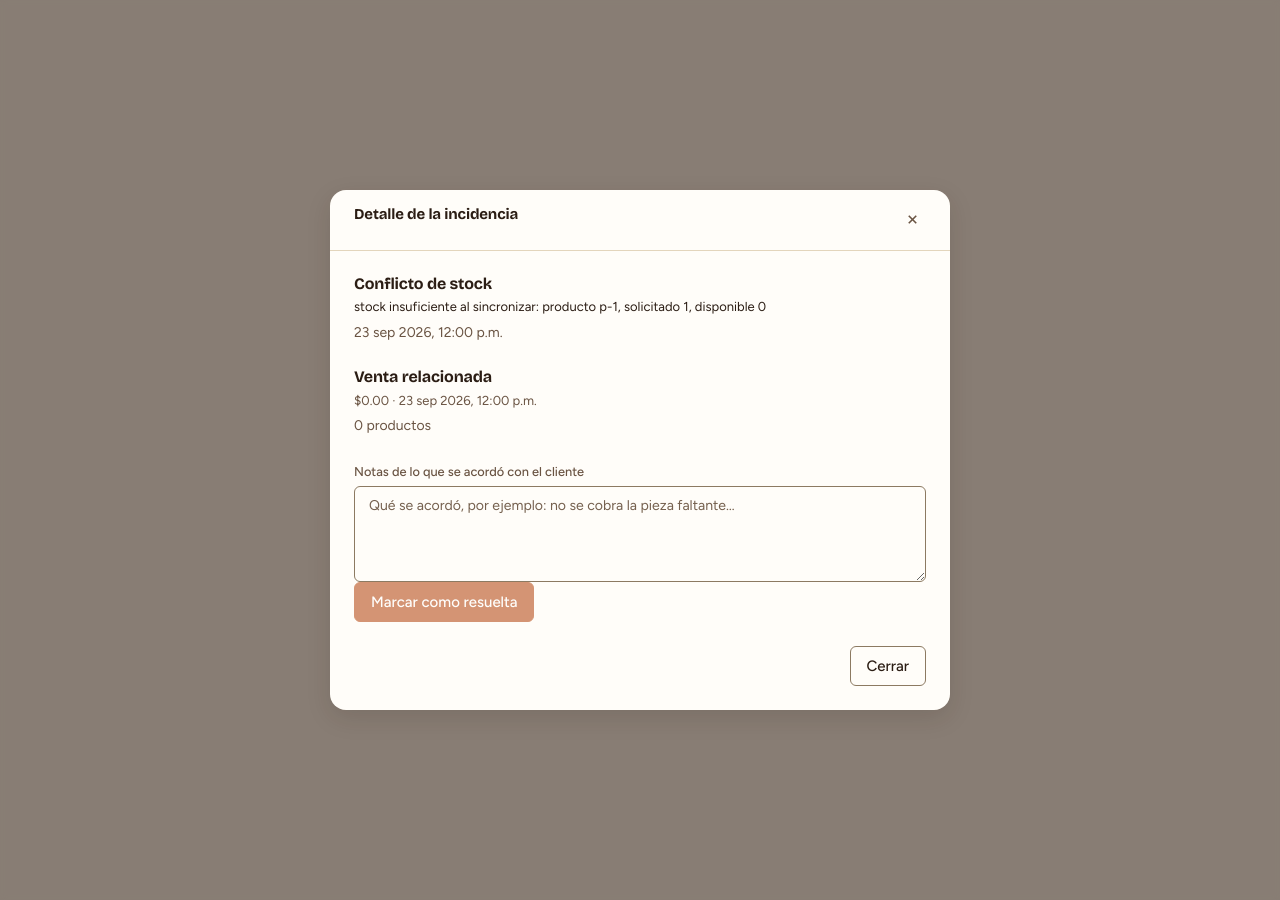
Test: IncidenciaDetailModal — pendiente: formulario de resolver › al resolver bien pasa a modo lectura y avisa al padre (evento resolved)
Type "Ya se resolvió." into the text box labelled "Notas de lo que se acordó con el cliente". click: (640, 534)
box: [354,486,926,582]
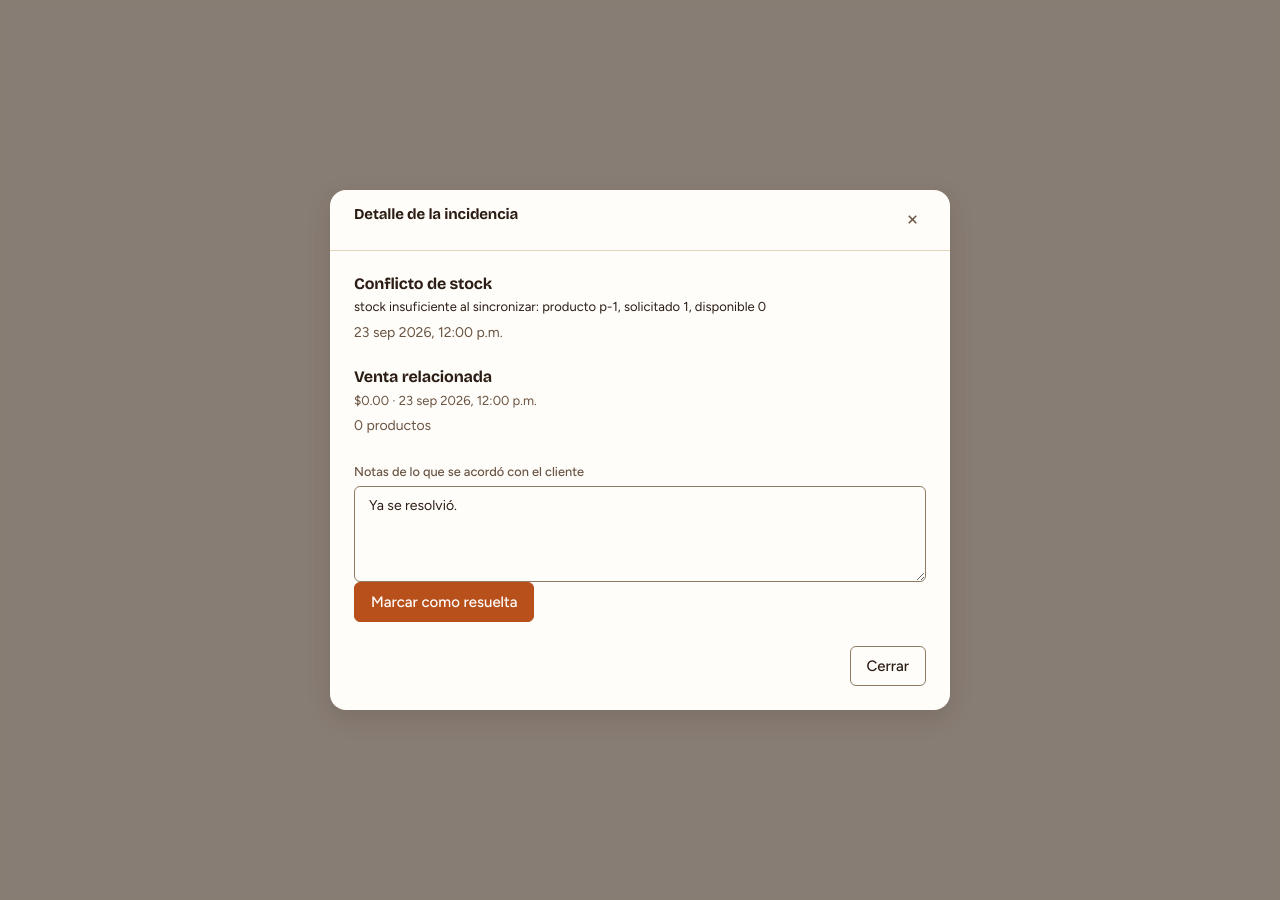
Click the button with class "incidencia-detail-modal__resolve". click: (444, 602)
box: [354,582,534,622]
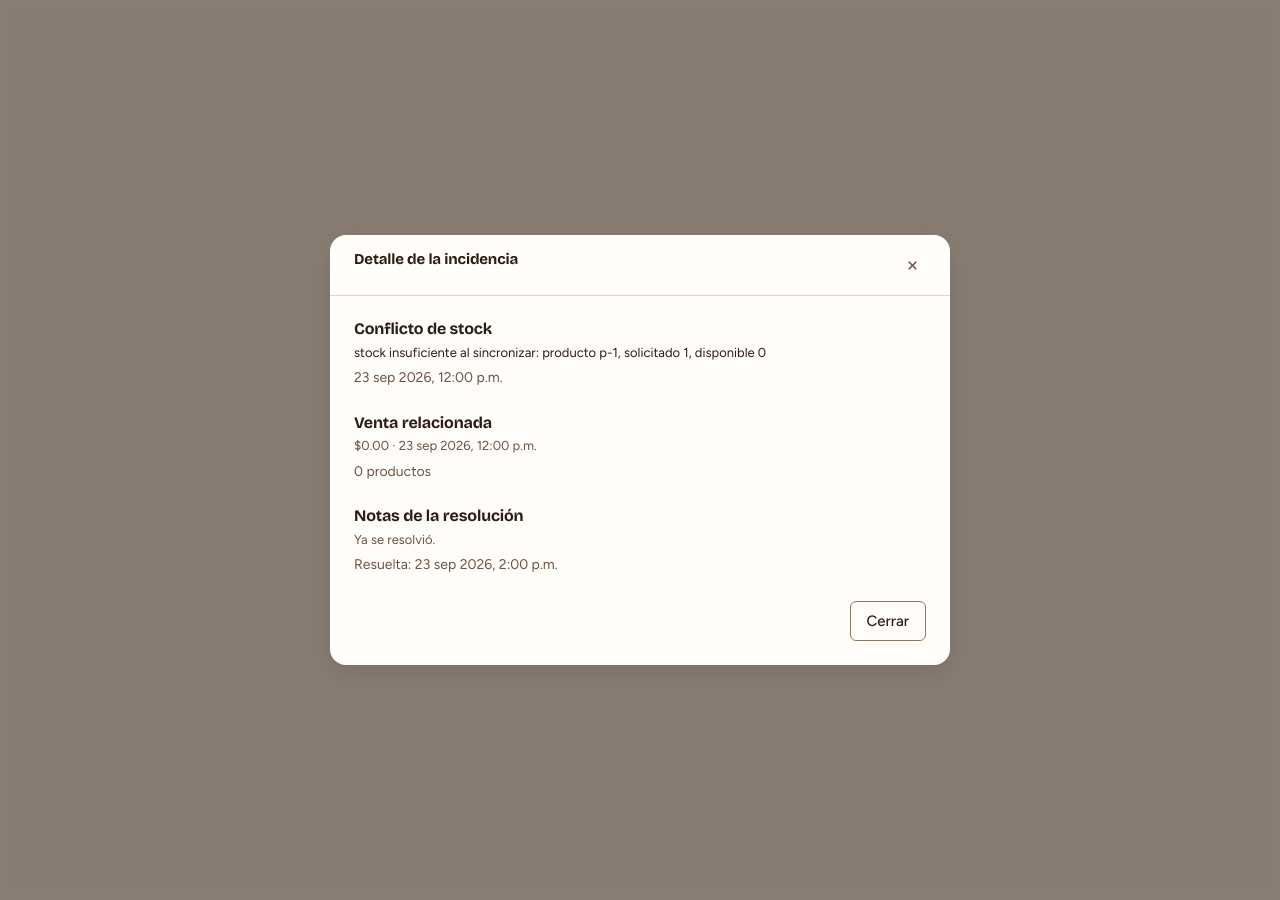
Result: the text "Ya se resolvió." is shown at [354,532,435,547]
